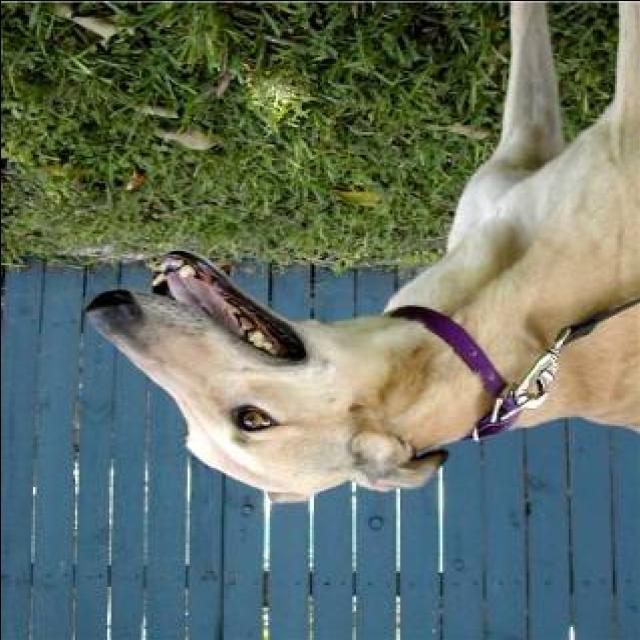dog: (81, 0, 640, 548)
